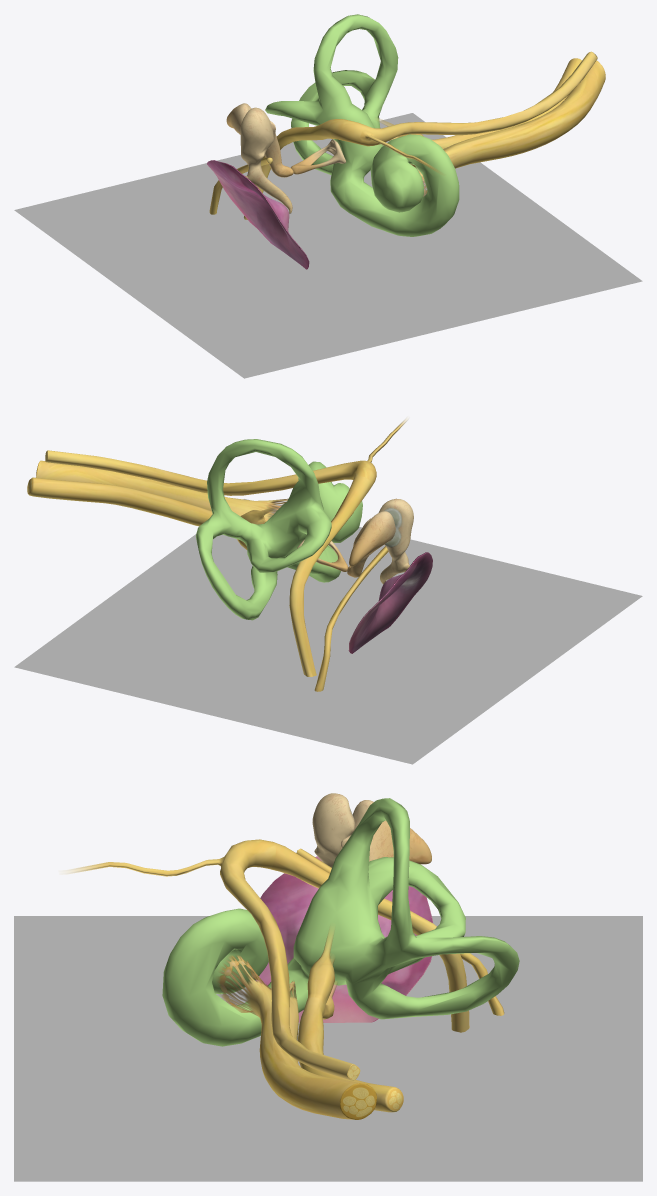
File: inner_ear.glb
The picture shows the model from 3 angles, top to bottom: view 1: azimuth 30°, elevation 25°; view 2: azimuth 150°, elevation 25°; view 3: azimuth 270°, elevation 25°; orthographic projection. The views are drawn at different scales.
Parts seen in each view (by area): view 1: Object_8, Object_10, Object_5, Object_11, Object_6, Object_7, Object_4, Object_9, Object_3; view 2: Object_8, Object_10, Object_5, Object_9, Object_11, Object_6, Object_7, Object_4; view 3: Object_8, Object_10, Object_5, Object_11, Object_6, Object_9, Object_7, Object_4.
Part boxes in pixels (box(x1,y1,x2,y2)): Object_8: box(14, 113, 642, 378); Object_10: box(265, 14, 459, 236); Object_5: box(209, 51, 597, 219); Object_11: box(410, 60, 605, 196); Object_6: box(207, 160, 309, 269); Object_7: box(240, 107, 292, 213); Object_4: box(226, 103, 293, 177); Object_9: box(377, 58, 581, 164); Object_3: box(291, 139, 345, 174); Object_8: box(14, 499, 642, 764); Object_10: box(195, 439, 362, 620); Object_5: box(46, 419, 407, 691); Object_9: box(27, 477, 276, 549); Object_11: box(36, 460, 288, 522); Object_6: box(348, 552, 432, 653); Object_7: box(378, 498, 413, 584); Object_4: box(347, 511, 395, 577); Object_8: box(14, 916, 642, 1181); Object_10: box(162, 798, 519, 1046); Object_5: box(66, 839, 504, 1080); Object_11: box(216, 955, 376, 1119); Object_6: box(249, 856, 432, 1022); Object_9: box(297, 927, 403, 1112); Object_7: box(312, 793, 354, 867); Object_4: box(341, 800, 431, 864).
Bounding box in the file's own units: 17.52 × 9.25 × 14.52.
10 materials, 9 textured.
